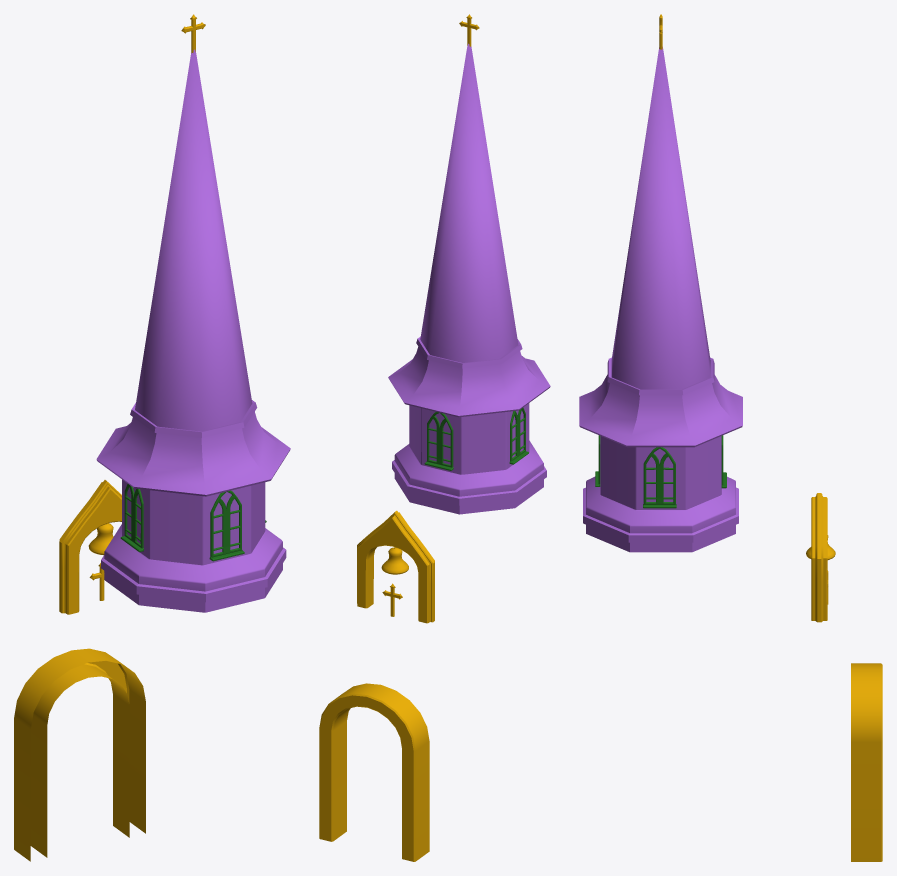
The model's file is Upper_layer_abbey.fbx.
3 renders of one model, left to right at view 1: azimuth 30°, elevation 25°; view 2: azimuth 150°, elevation 25°; view 3: azimuth 270°, elevation 25°, orthographic. The views are drawn at different scales.
Visible parts, largest first — view 1: Main_tower, arch2, arch3, Curch_window1 (×2); view 2: Main_tower, arch2, arch3, Curch_window1 (×2), Bell; view 3: Main_tower, arch2, arch3, Curch_window1.
Part boxes in pixels (x1,y1,x2,y2): Main_tower: (96,49,290,612); arch2: (14,648,145,861); arch3: (59,480,121,614); Curch_window1 (×2): (120,484,244,561); Main_tower: (388,43,550,514); arch2: (319,683,429,861); arch3: (357,510,434,623); Curch_window1 (×2): (424,407,528,470); Bell: (381,547,408,574); Main_tower: (579,47,742,552); arch2: (851,663,882,861); arch3: (811,493,827,622); Curch_window1: (643,447,676,508).
Size of the model in its own units: 11.34 by 62.9 by 21.03.
